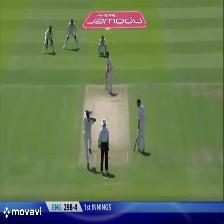batsman: (102, 49, 117, 96)
